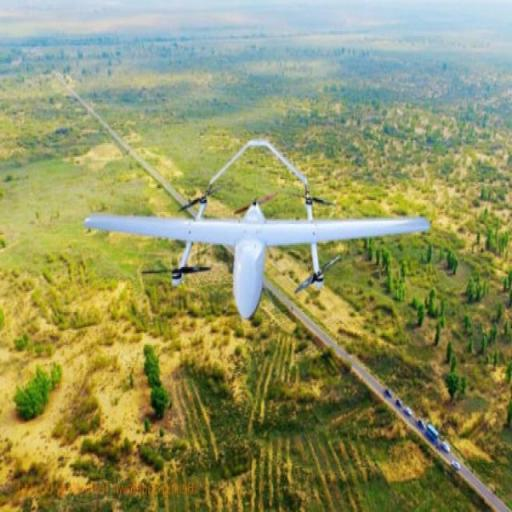uav: (85, 136, 427, 308)
